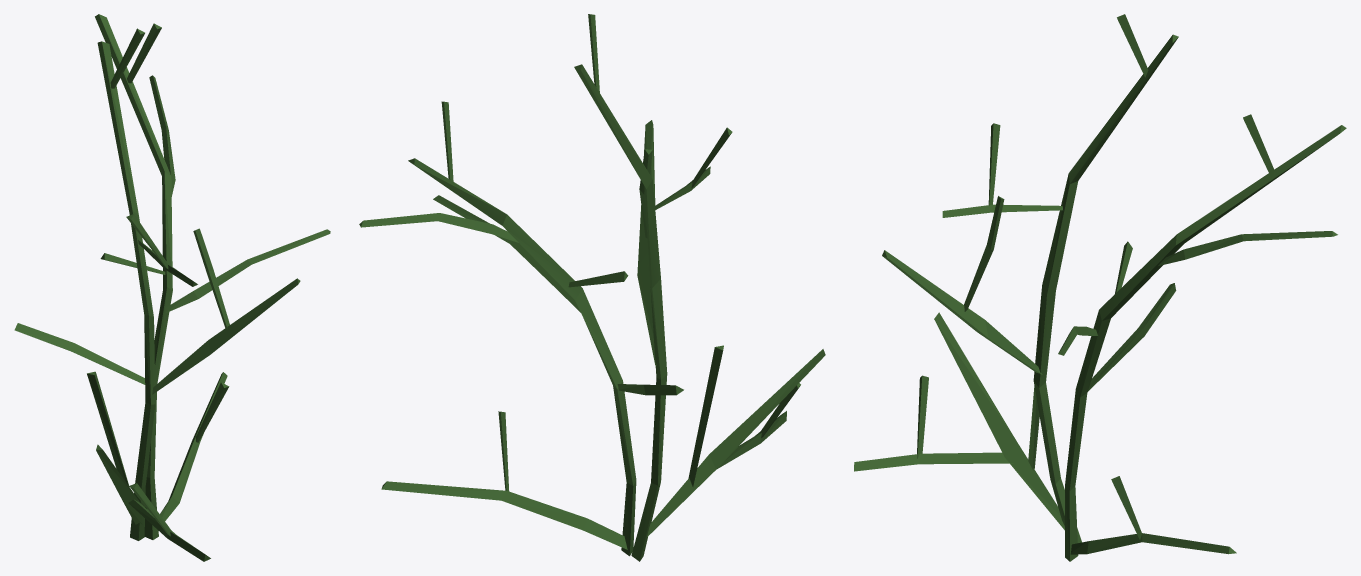
Rendered from 05 Green_Grass_2.FBX.
3 views of the same model, side by side, from view 1: azimuth 30°, elevation 25°; view 2: azimuth 150°, elevation 25°; view 3: azimuth 270°, elevation 25° (orthographic). The views are drawn at different scales.
Visible parts, largest first — view 1: Desert_plant_063; view 2: Desert_plant_063; view 3: Desert_plant_063.
Part boxes in pixels (x1,y1,x2,y2): Desert_plant_063: (14, 14, 330, 561); Desert_plant_063: (359, 14, 825, 561); Desert_plant_063: (854, 14, 1346, 561).
Size of the model in its own units: 428 by 690 by 561.
